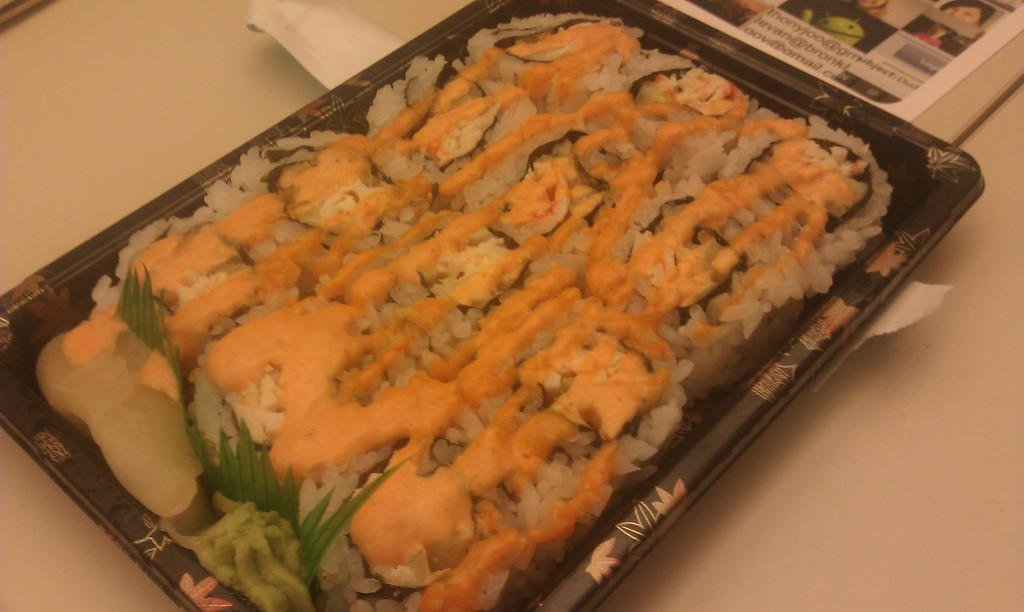sushi: (45, 6, 886, 611), (597, 49, 762, 175)
